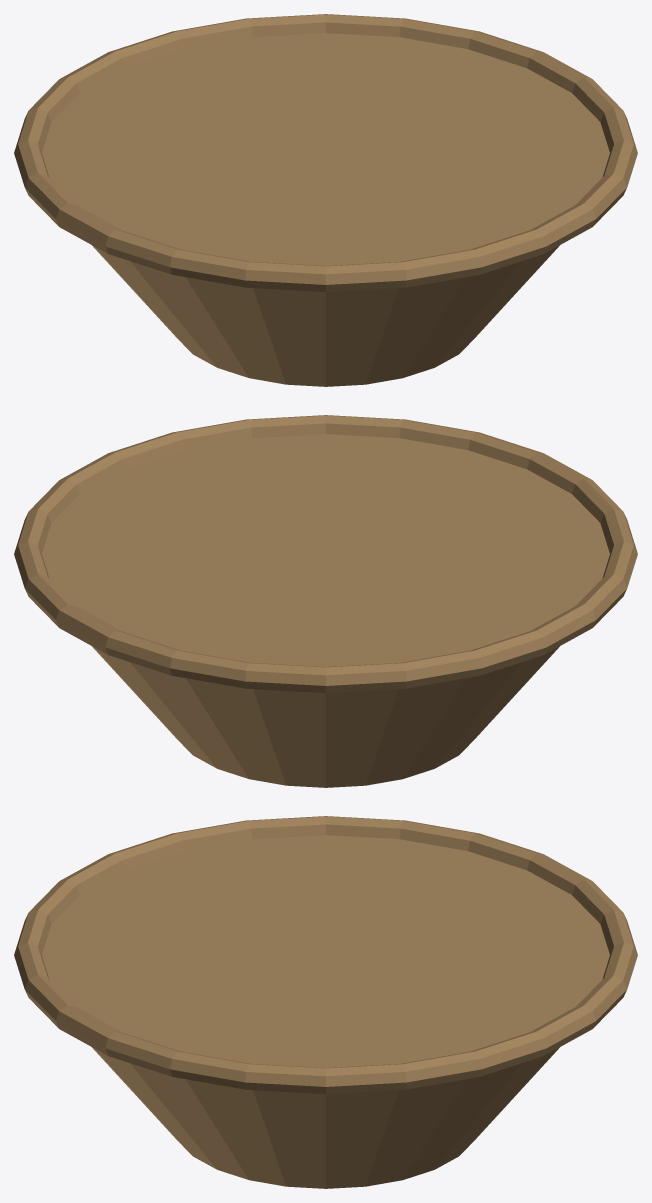
Rendered from bowl.glb.
3 renders of one model, top to bottom at view 1: azimuth 30°, elevation 25°; view 2: azimuth 150°, elevation 25°; view 3: azimuth 270°, elevation 25°, orthographic.
Visible parts, largest first — view 1: bowl; view 2: bowl; view 3: bowl.
Part boxes in pixels (x1,y1,x2,y2): bowl: (14, 14, 637, 386); bowl: (14, 415, 637, 787); bowl: (14, 816, 637, 1188).
Size of the model in its own units: 0.134 by 0.043 by 0.134.
